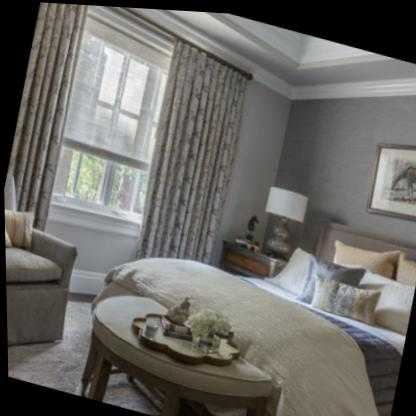Bed: (107, 169, 416, 416)
Curtains: (133, 37, 252, 261), (6, 2, 87, 230)
Frame: (365, 140, 416, 216)
